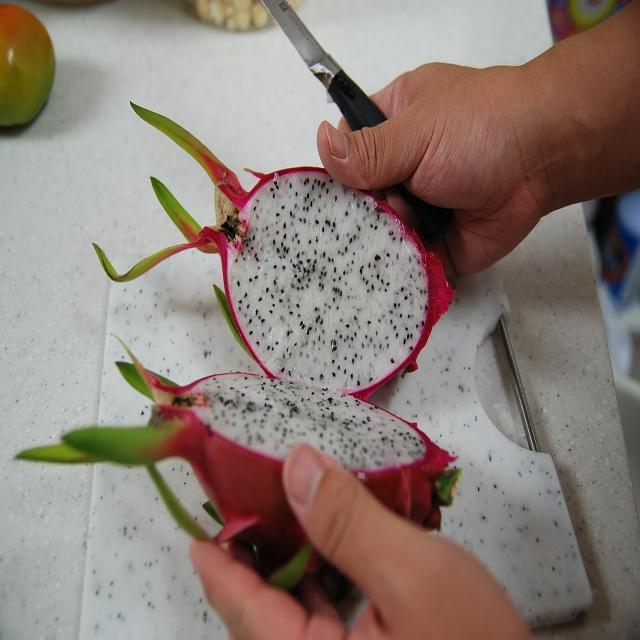dragon-fruit: (178, 371, 451, 570), (219, 164, 440, 400)
